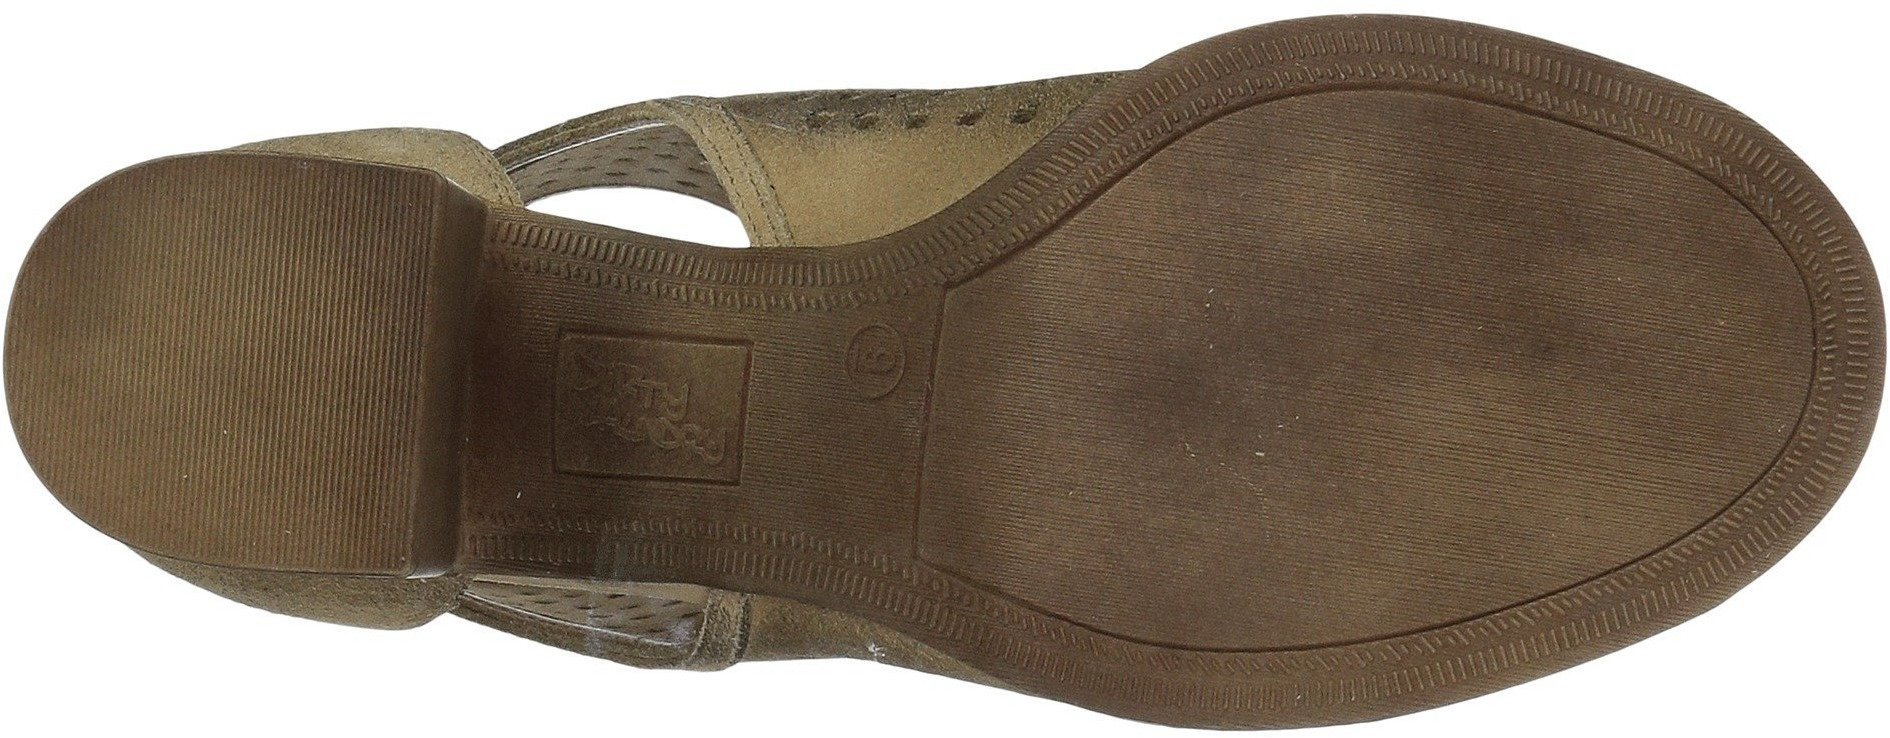other: (75, 207, 385, 529), (1242, 125, 1571, 406), (951, 283, 1235, 544), (1254, 412, 1472, 619), (1574, 225, 1775, 435)
